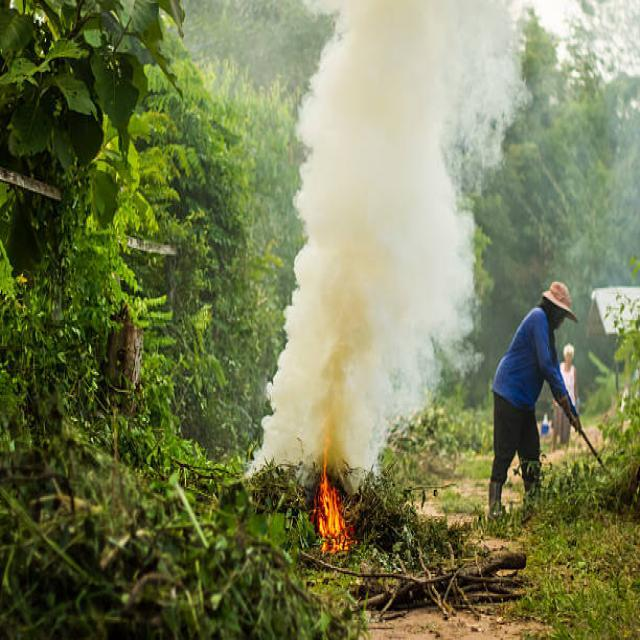Fire: (313, 469, 352, 554)
Smoke: (250, 0, 532, 469)
